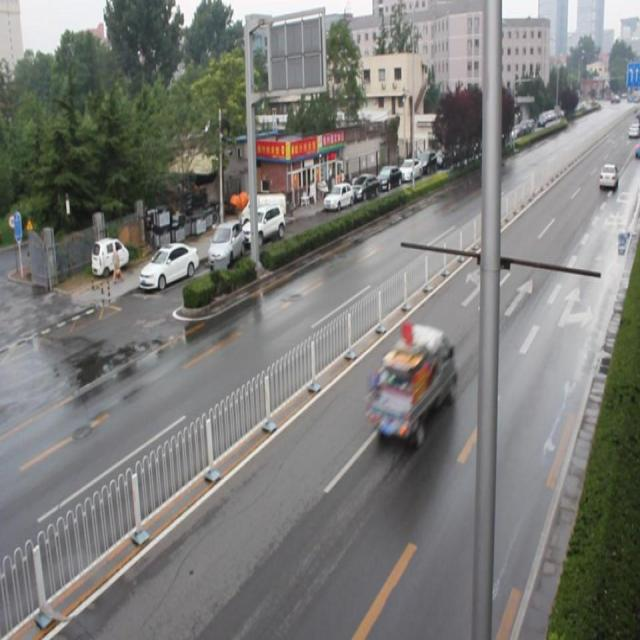bus: (368, 323, 454, 447)
car: (598, 162, 615, 190)
